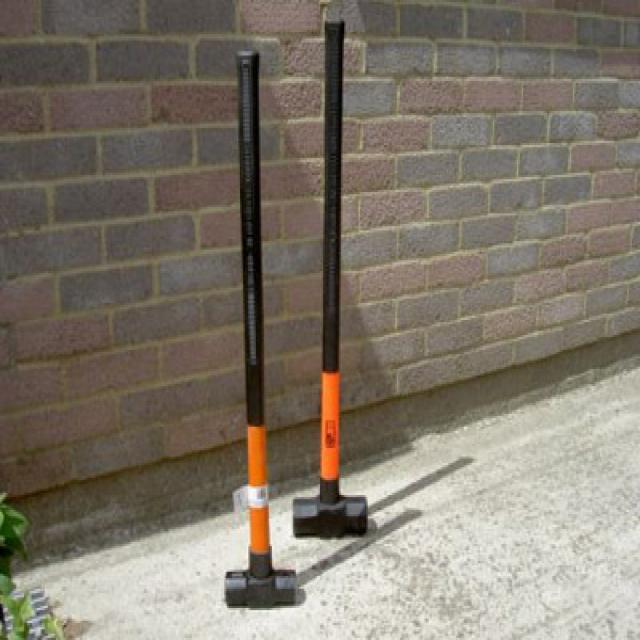hammer: (220, 40, 300, 620), (292, 12, 375, 544)
